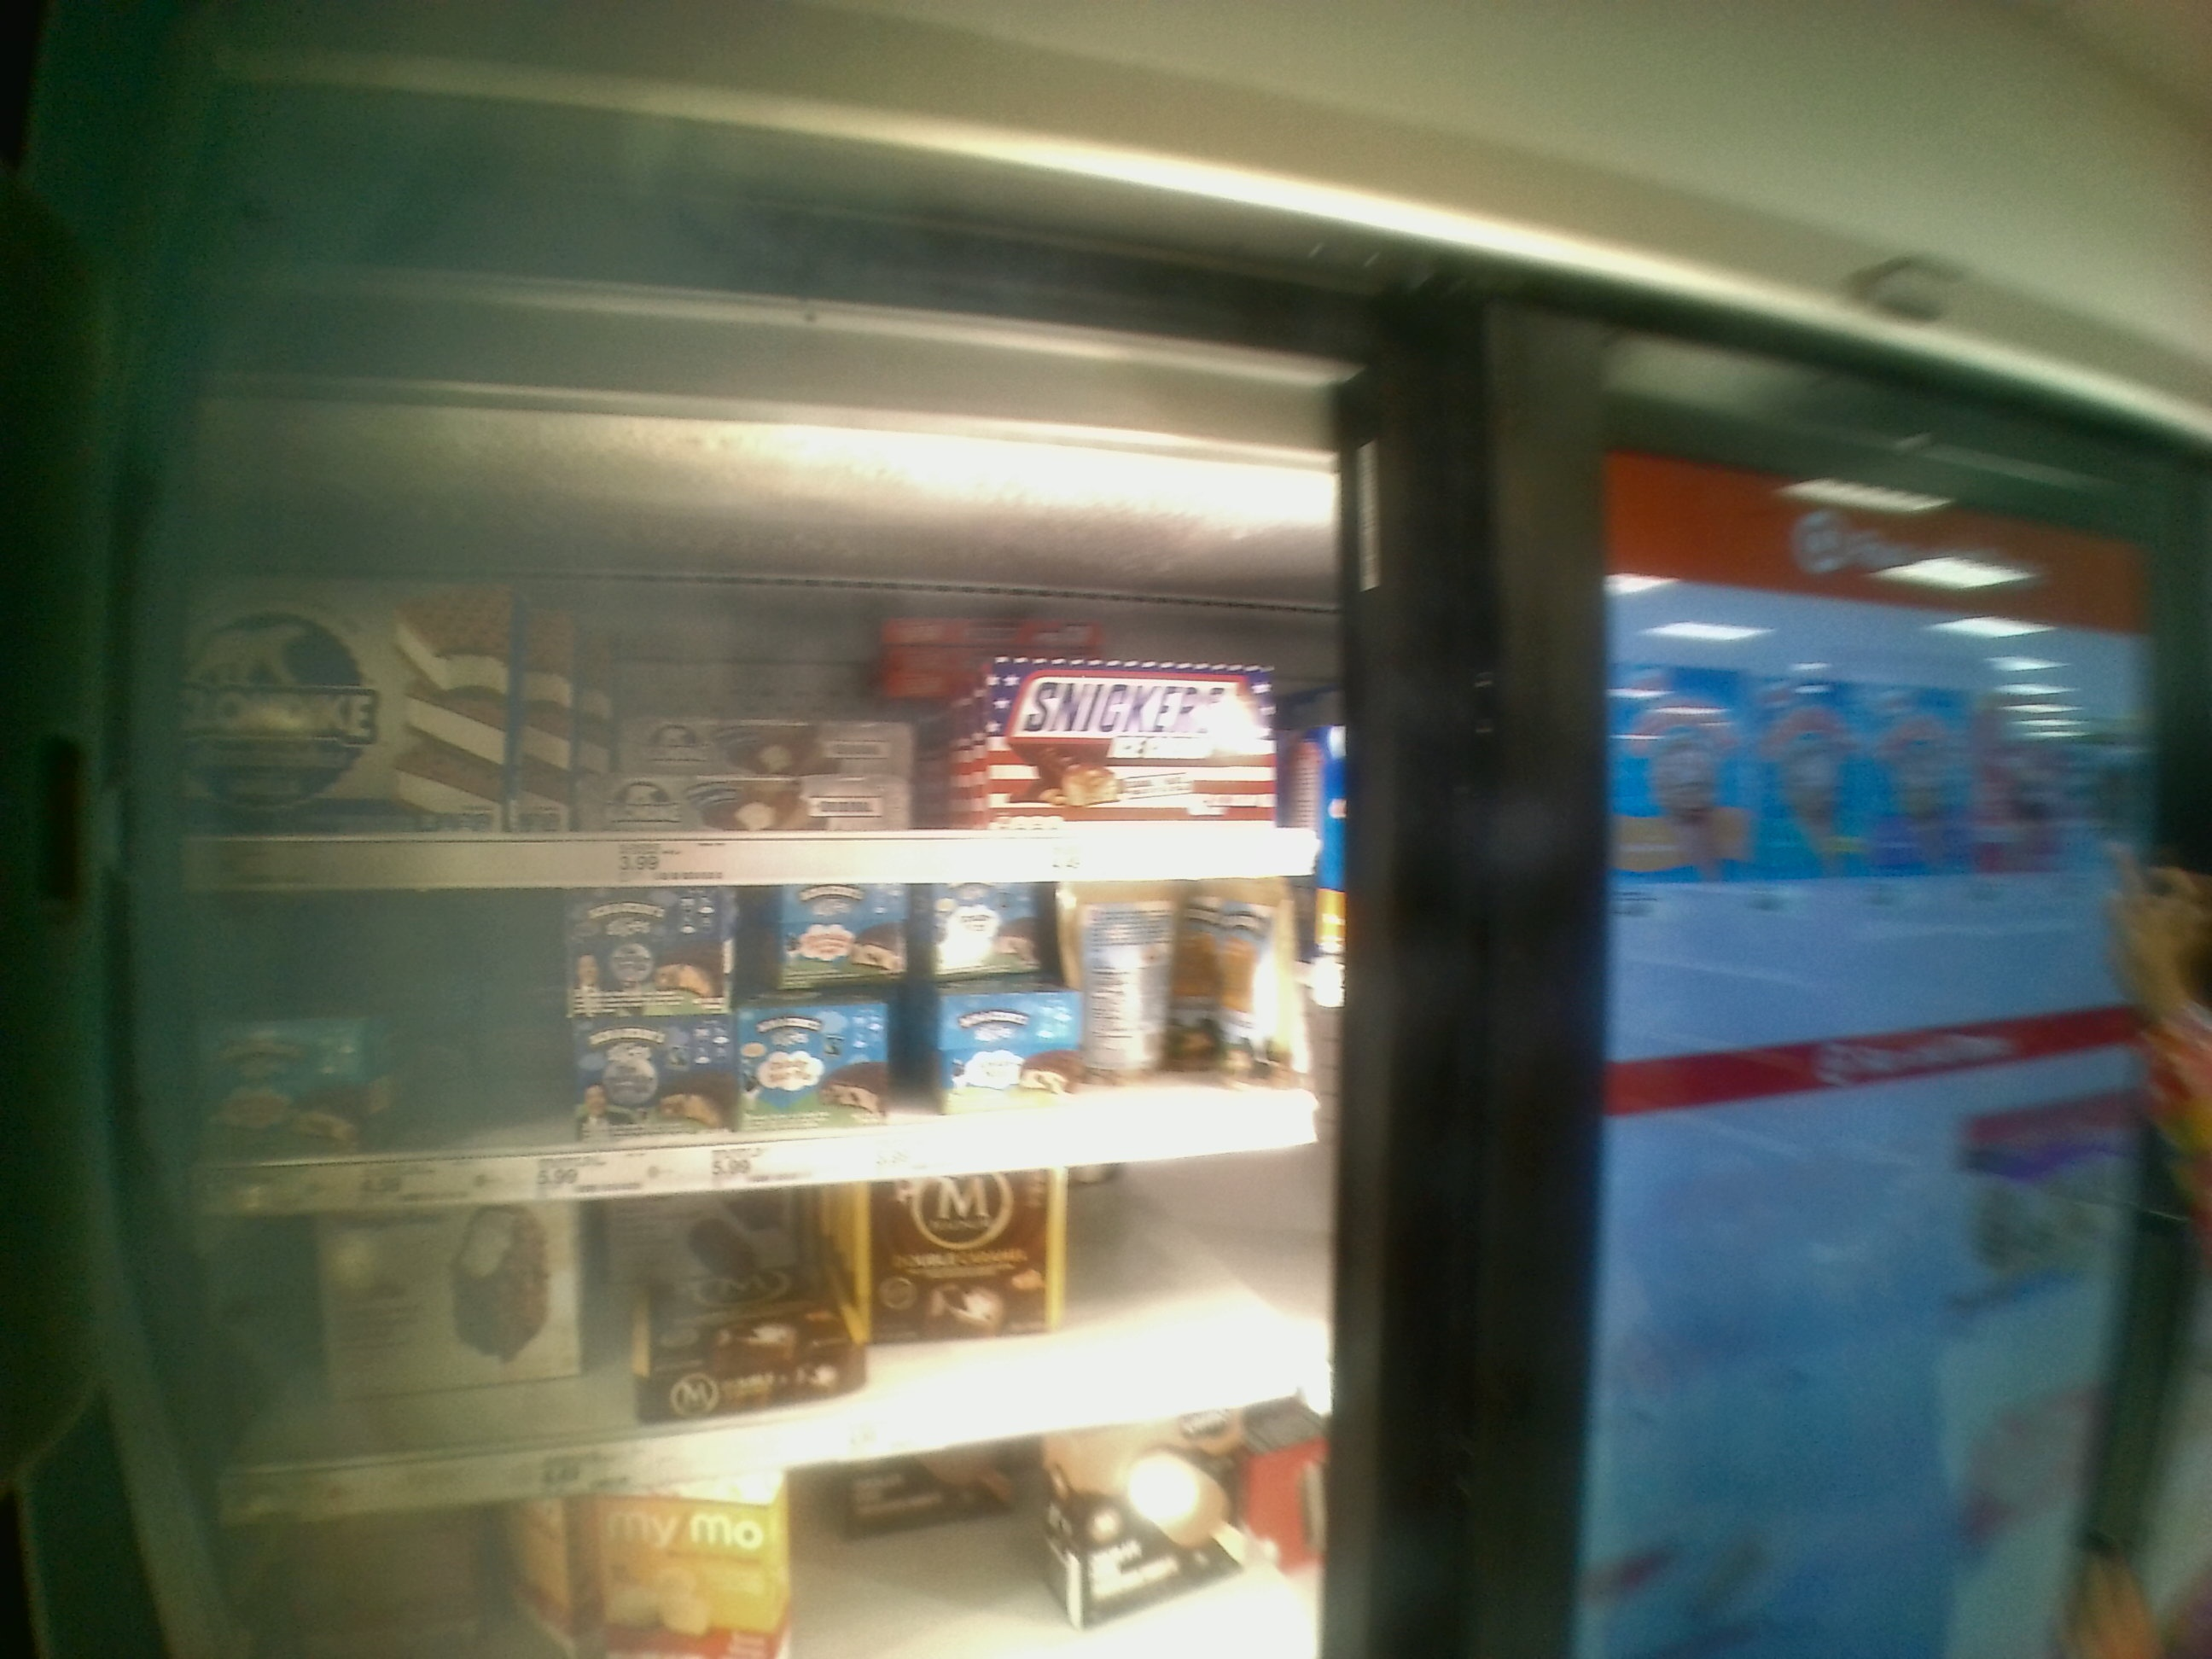ice-cream-shelf: (190, 446, 1332, 877), (188, 878, 1350, 1211)
